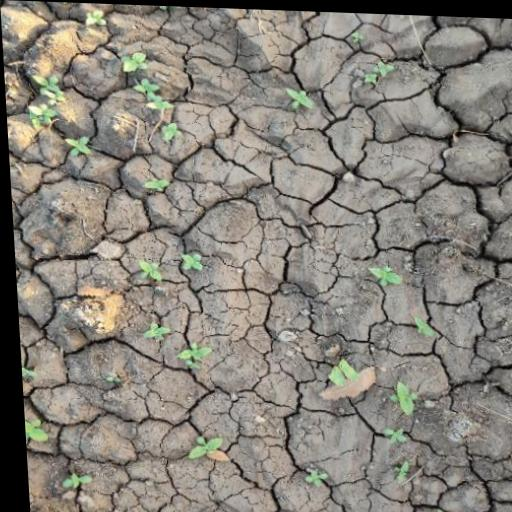crop: (15, 67, 93, 163), (112, 49, 185, 147), (137, 321, 210, 371), (128, 246, 205, 281), (339, 56, 408, 92), (180, 427, 220, 464), (380, 374, 417, 414), (361, 254, 400, 287), (282, 83, 318, 112), (292, 457, 325, 488)
